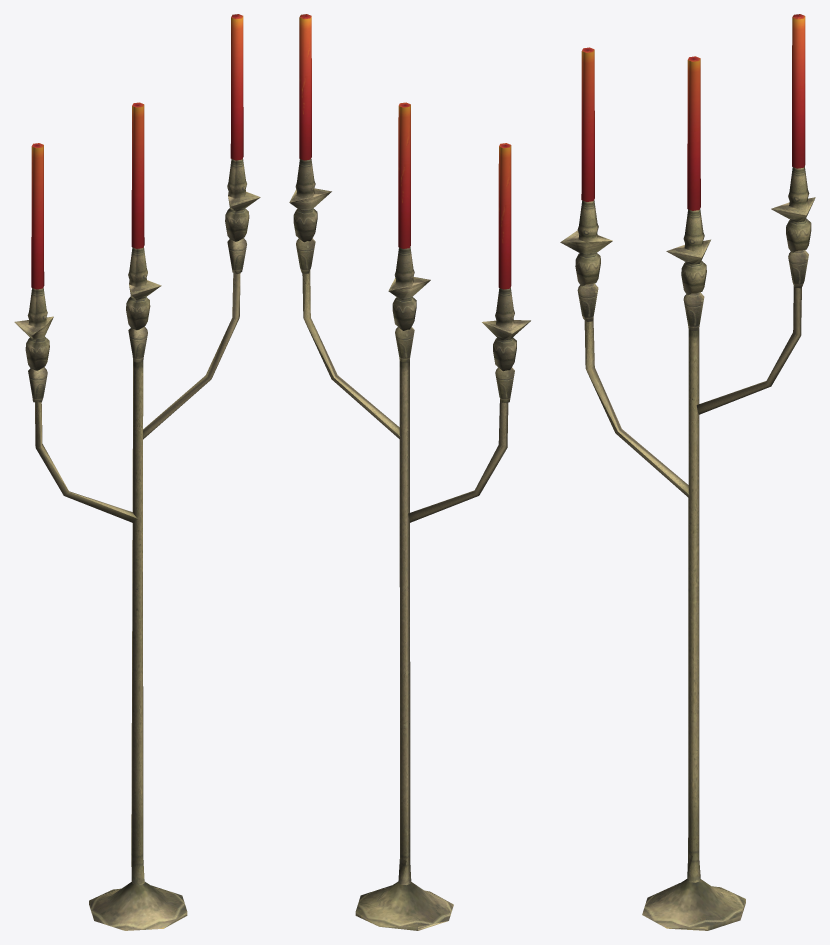
The model's file is Chandelier.dae.
The picture shows the model from 3 angles, left to right: view 1: azimuth 30°, elevation 25°; view 2: azimuth 150°, elevation 25°; view 3: azimuth 330°, elevation 25°; orthographic projection. The views are drawn at different scales.
Parts seen in each view (by area): view 1: Default_Layer; view 2: Default_Layer; view 3: Default_Layer.
Boxes of the visible parts, bbox=[...] form: Default_Layer: bbox=[14, 14, 260, 930]; Default_Layer: bbox=[289, 14, 530, 930]; Default_Layer: bbox=[560, 14, 815, 930].
Bounding box in the file's own units: 0.8576 × 3.08 × 0.327.
